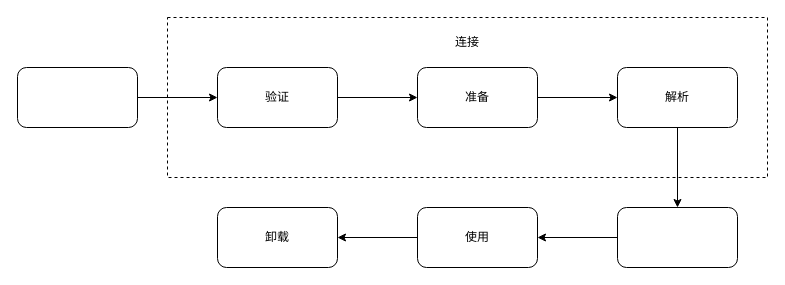
Some shapes in this 785 by 285 pixel diagram are drawn without their labels. The shapes that lost their labels are listed below. From the top down, each one's centre as x and y in pixels, then its label:
At [77,97]: "加载".
At [677,237]: "初始化".
